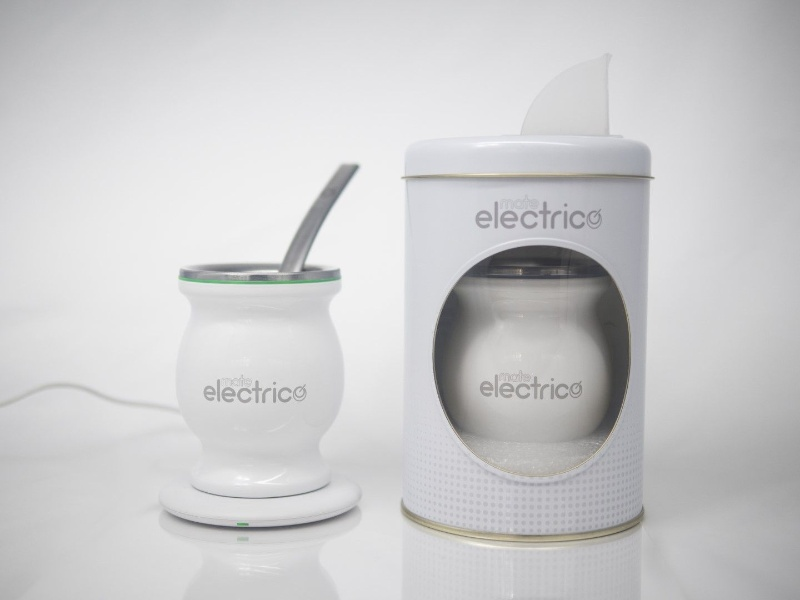guampa: (133, 145, 367, 549)
